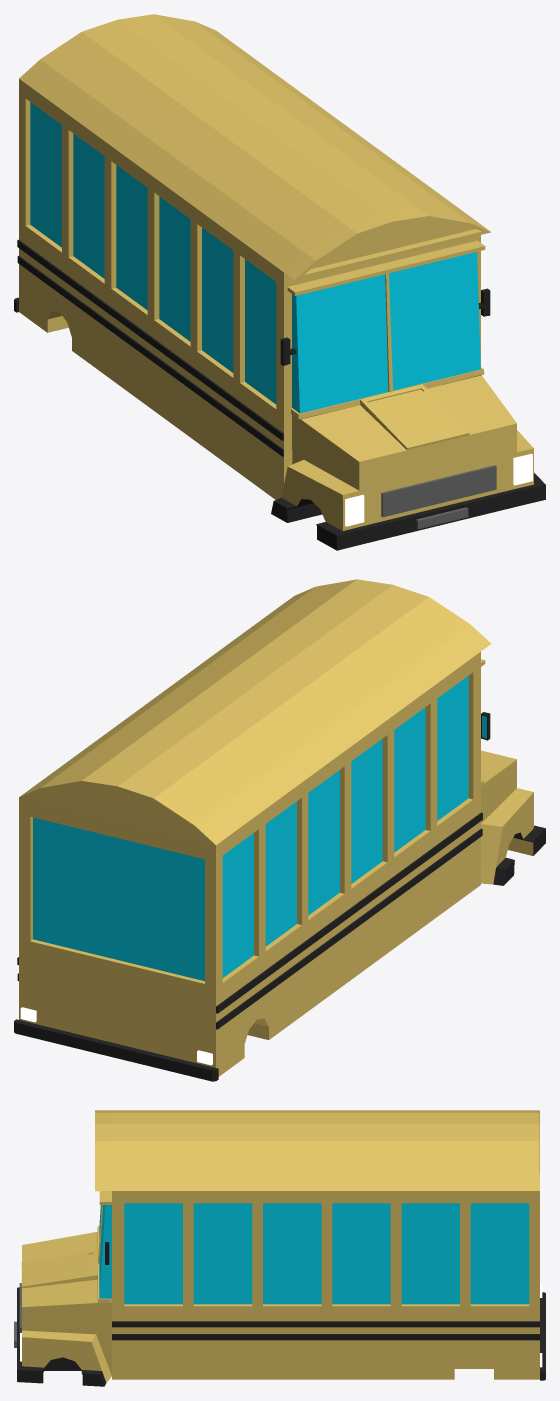
File: school-bus.glb
3 views of the same model, one above another, from view 1: azimuth 30°, elevation 25°; view 2: azimuth 150°, elevation 25°; view 3: azimuth 270°, elevation 25° (orthographic). The views are drawn at different scales.
Parts seen in each view (by area): view 1: school-bus; view 2: school-bus; view 3: school-bus.
Part boxes in pixels (box(x1,y1,x2,y2)): school-bus: box(14, 14, 545, 550); school-bus: box(14, 579, 545, 1081); school-bus: box(14, 1110, 545, 1386).
Size of the model in its own units: 2.25 by 2.49 by 5.53.
